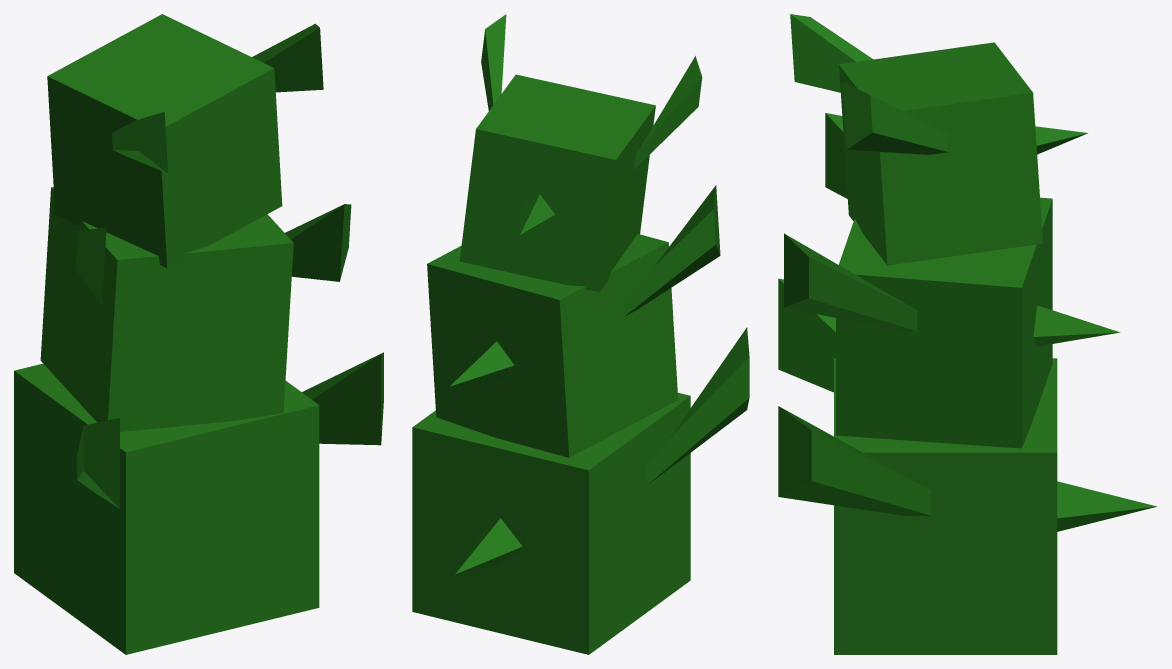
The model's file is hobgoblin.gltf.
3 renders of one model, left to right at view 1: azimuth 30°, elevation 25°; view 2: azimuth 150°, elevation 25°; view 3: azimuth 270°, elevation 25°, orthographic. The views are drawn at different scales.
Parts seen in each view (by area): view 1: Cube; view 2: Cube; view 3: Cube.
Part boxes in pixels (<box>): Cube: <box>14,14,383,654</box>; Cube: <box>412,14,749,654</box>; Cube: <box>778,14,1156,654</box>.
Size of the model in its own units: 4.05 by 7.43 by 4.44.
